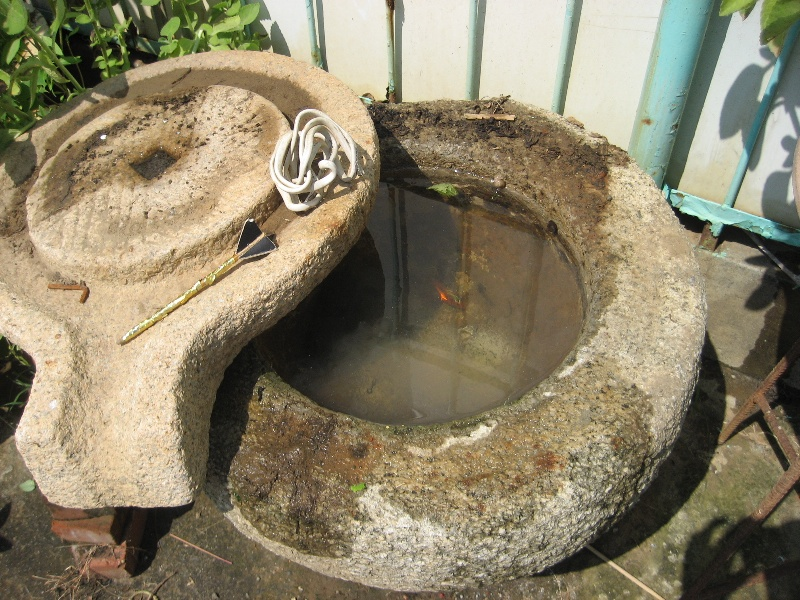bowl: (195, 103, 709, 595)
